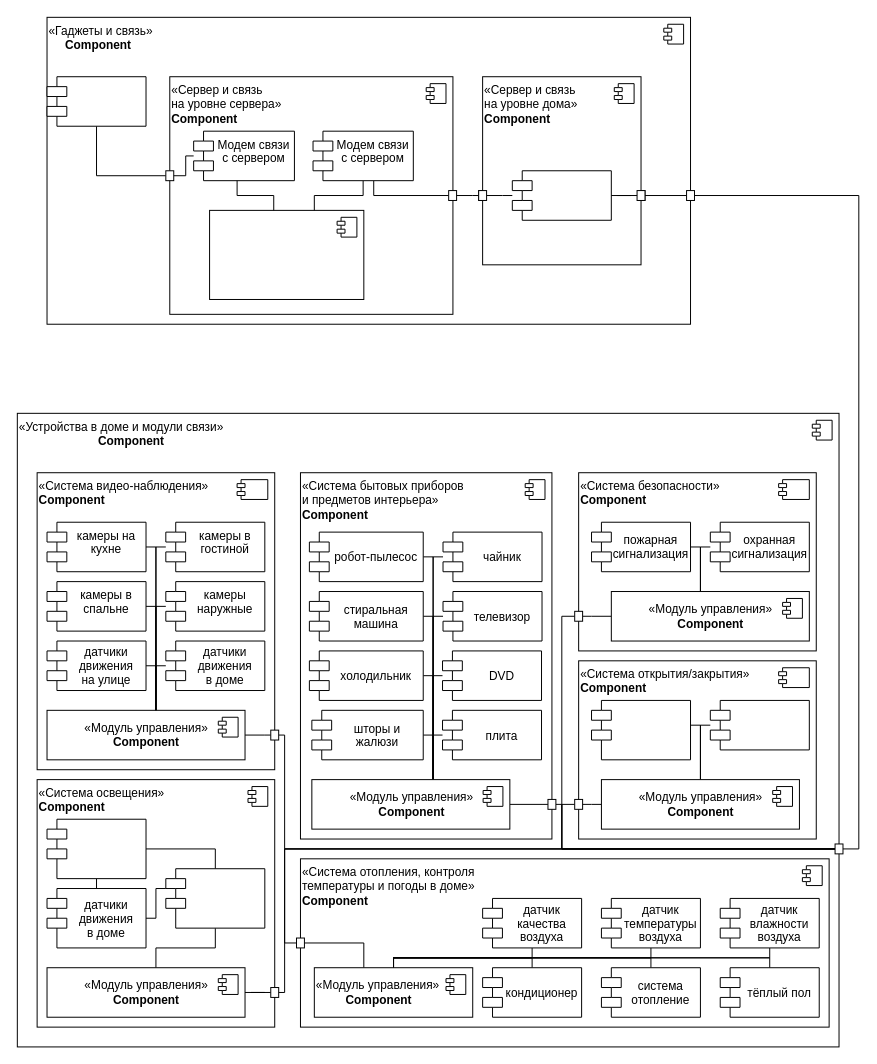
Some shapes in this 877 by 1064 pixel diagram are drawn without their labels. The shapes that lost their labels are listed below. From the top down, each one's centre as x and y in pixels, then its label:
point 96,101: Телефон "Приложение Умный дом"
point 561,195: Wi-Fi модуль
point 286,254: «Сервер управления умным домом» Component
point 641,729: откр/закр двери внутри, вход, гараж
point 759,724: откр/закр окна
point 96,848: Лампочки
point 215,898: Включатели/ выключатели
